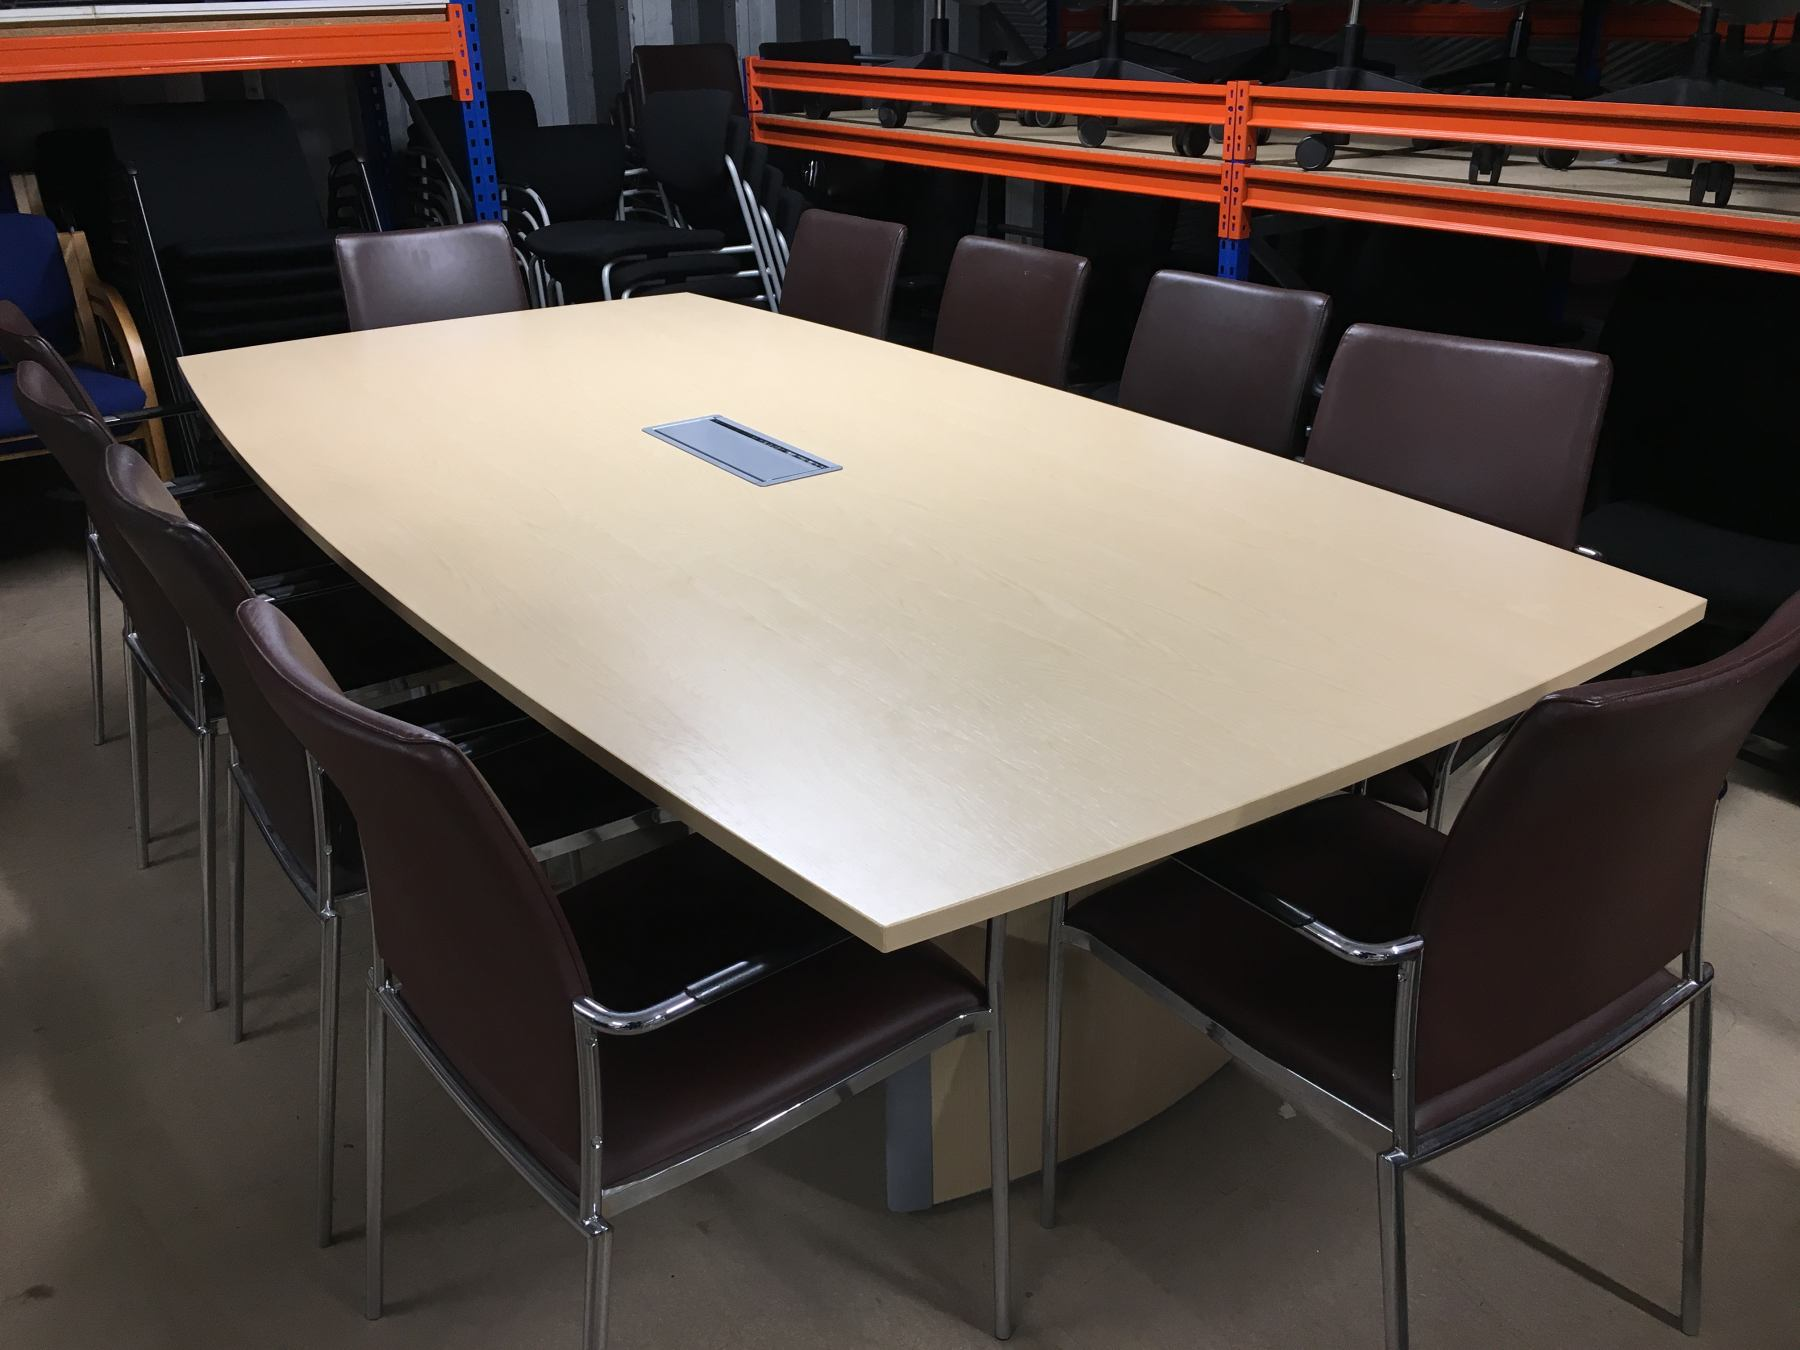conference_table: (176, 289, 1705, 1211)
